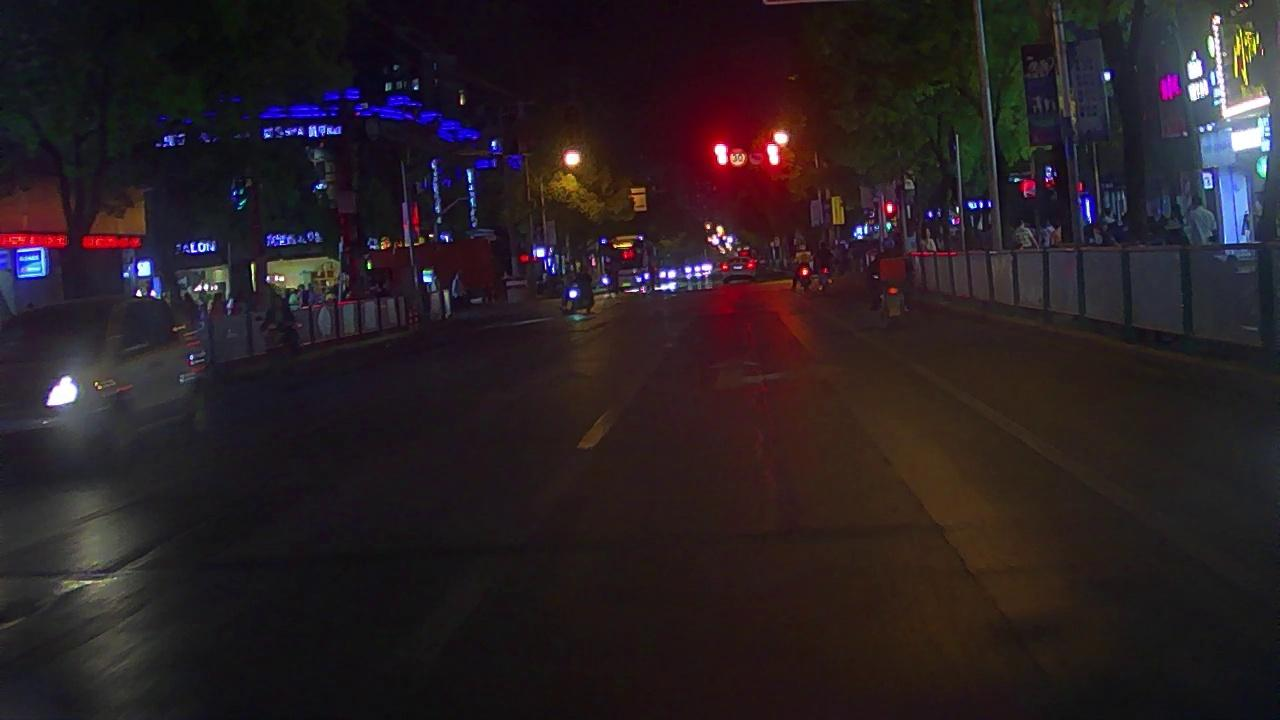traffic_light: (713, 141, 729, 172), (765, 142, 780, 172)
